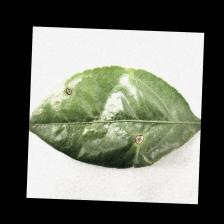canker: (53, 84, 150, 148)
